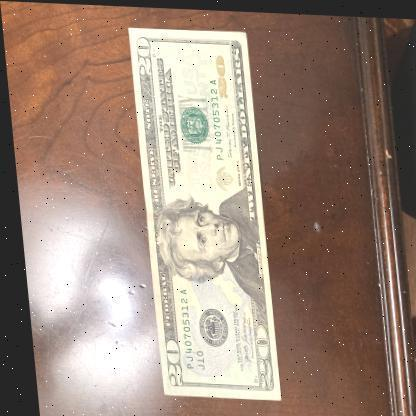dollar_front: (128, 24, 274, 398)
